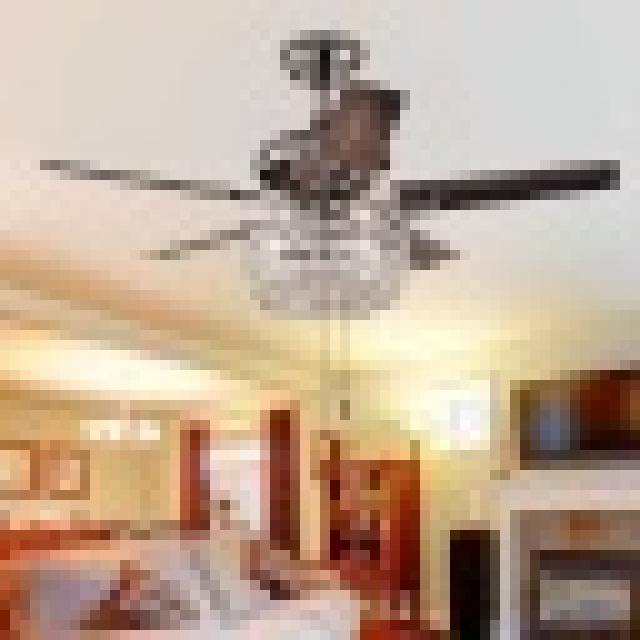fan_off: (48, 37, 604, 278)
